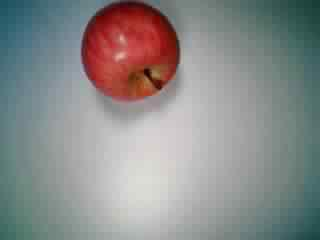apple: (79, 2, 184, 104)
